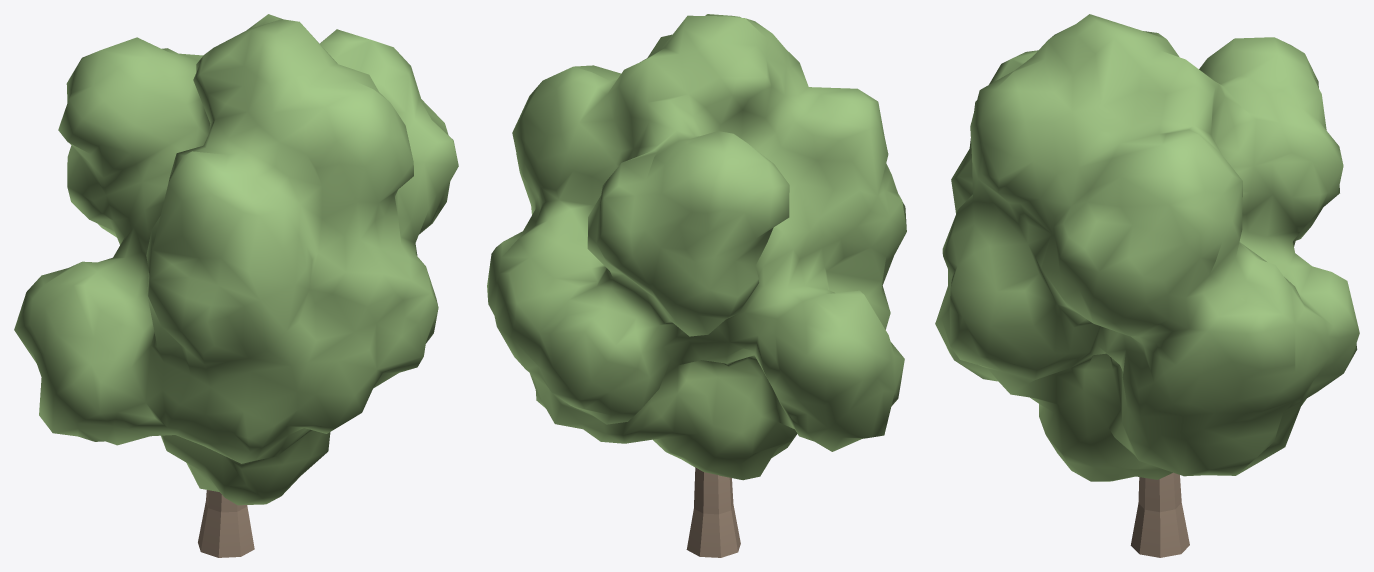
Rendered from tree_chestnut.glb.
3 views of the same model, side by side, from view 1: azimuth 30°, elevation 25°; view 2: azimuth 150°, elevation 25°; view 3: azimuth 270°, elevation 25° (orthographic). The views are drawn at different scales.
Visible parts, largest first — view 1: tree_chestnut; view 2: tree_chestnut; view 3: tree_chestnut.
Boxes of the visible parts, bbox=[...] form: tree_chestnut: bbox=[14, 14, 458, 557]; tree_chestnut: bbox=[487, 14, 906, 557]; tree_chestnut: bbox=[935, 14, 1359, 557].
Bounding box in the file's own units: 8.47 × 10.84 × 7.82.
